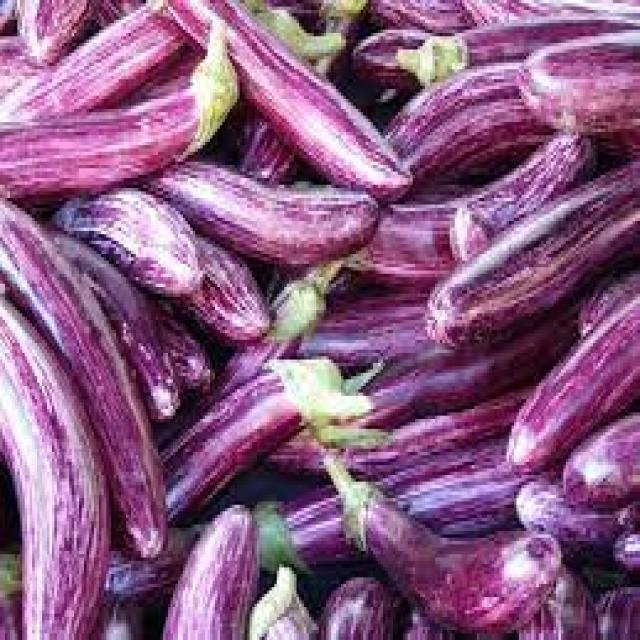eggplant: (326, 455, 563, 635)
